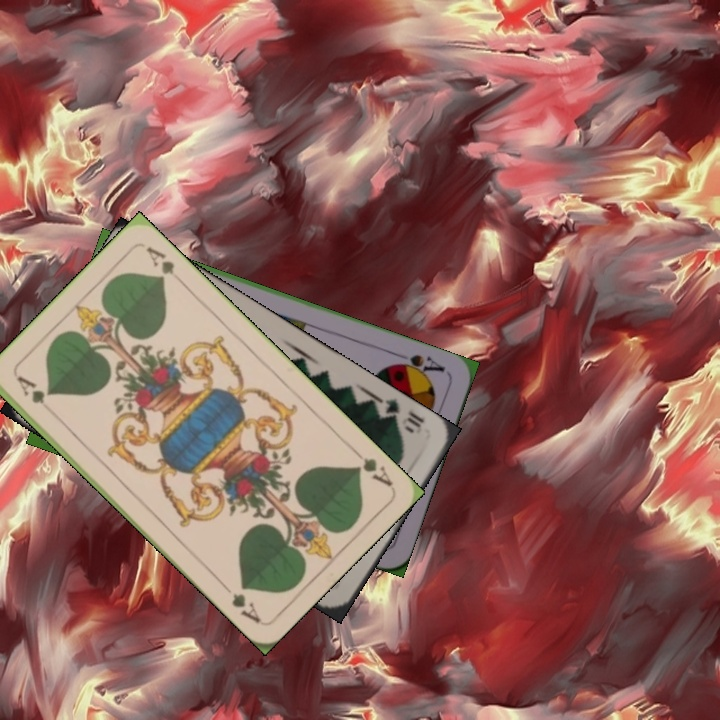G10: (372, 395, 427, 436)
GA: (348, 444, 396, 490), (13, 371, 56, 419)
SA: (388, 350, 448, 380)
